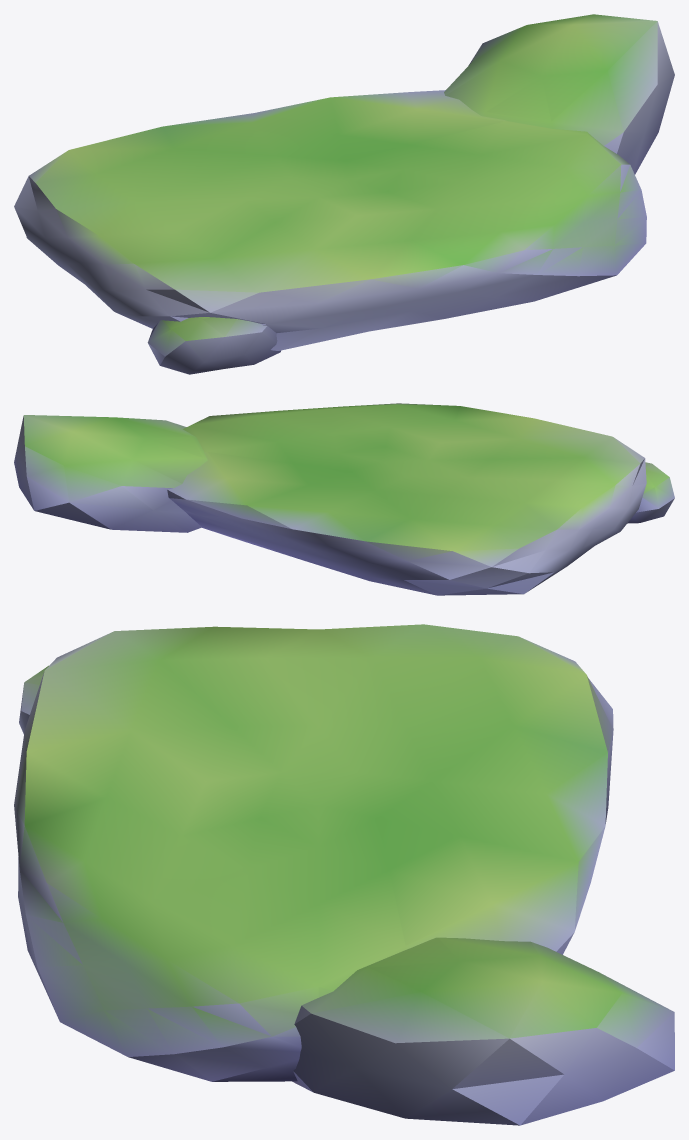
The model's file is verdant_rock_slab_a.glb.
3 renders of one model, top to bottom at view 1: azimuth 30°, elevation 25°; view 2: azimuth 150°, elevation 25°; view 3: azimuth 270°, elevation 25°, orthographic. The views are drawn at different scales.
Visible parts, largest first — view 1: verdant_rock_slab_a; view 2: verdant_rock_slab_a; view 3: verdant_rock_slab_a.
Boxes of the visible parts, left/top/right/bottom form: verdant_rock_slab_a: left=14, top=14, right=674, bottom=374; verdant_rock_slab_a: left=14, top=403, right=674, bottom=595; verdant_rock_slab_a: left=14, top=624, right=674, bottom=1125.
Size of the model in its own units: 4.25 by 0.7055 by 2.65.
